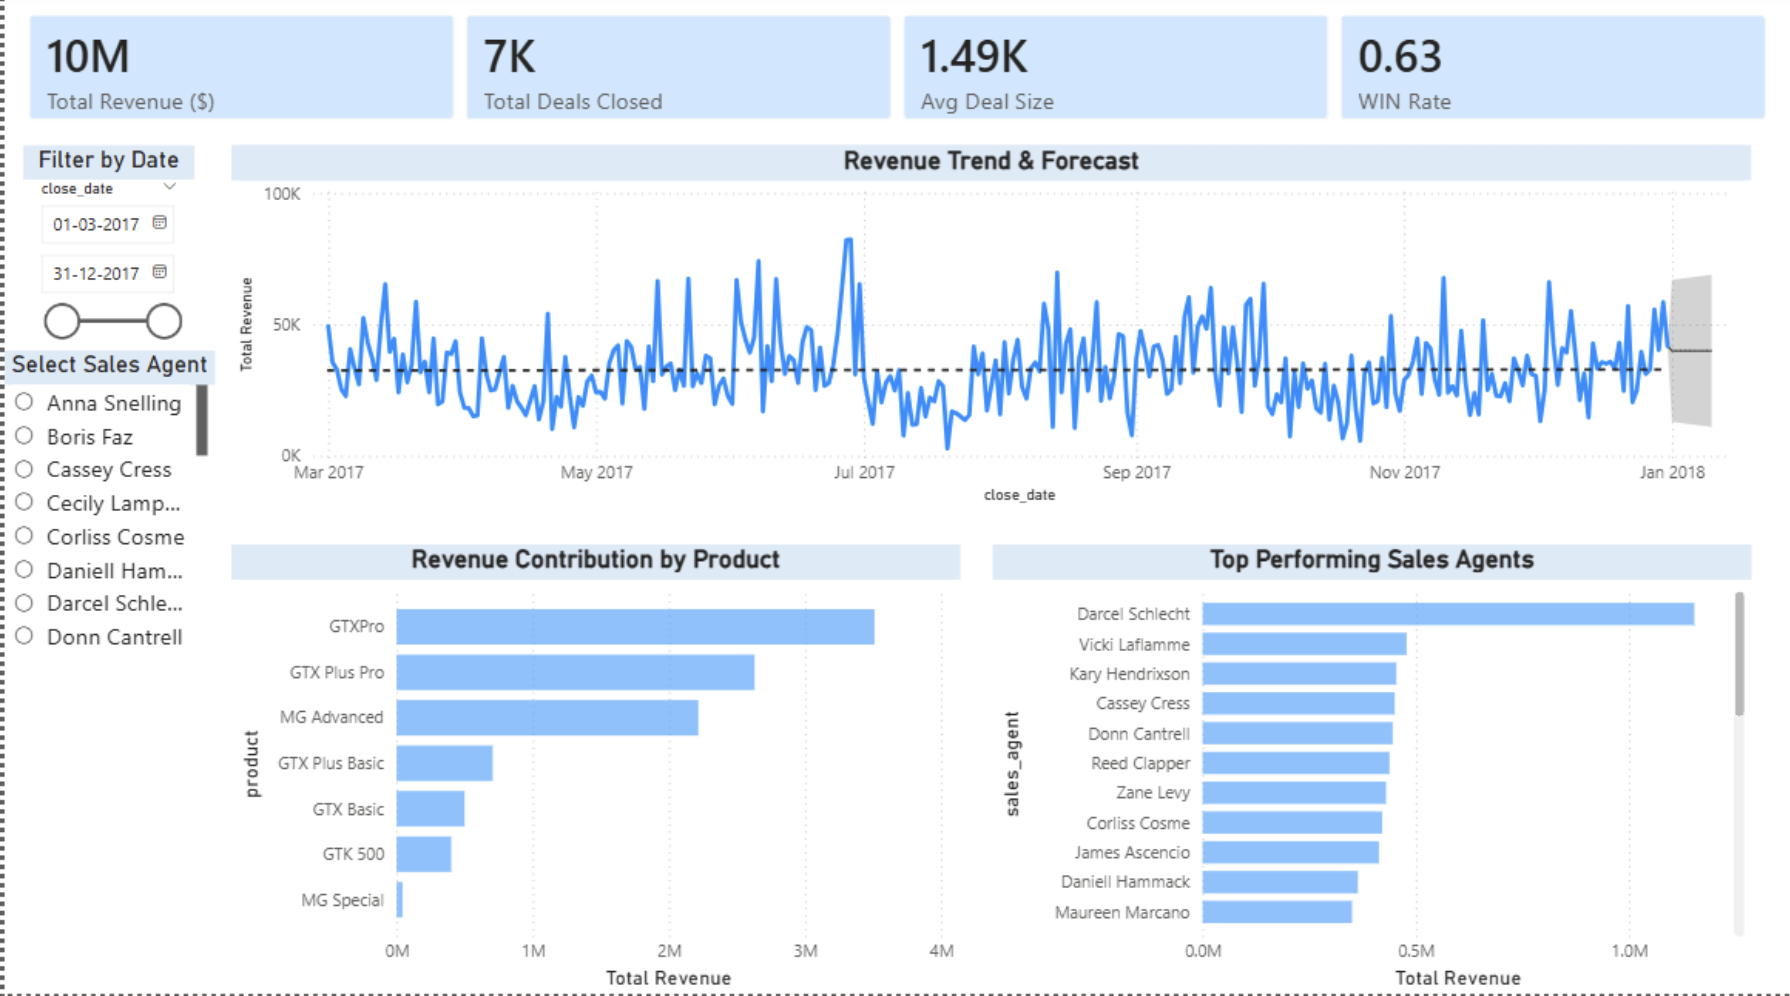

The page's visual inventory and layout, read from the dashboard file:
{"tool":"powerbi","page":{"name":"Page 1","canvas":[1280,720],"ordinal":0},"visuals":[{"type":"cardVisual","fields":{"Data":["sales pipeline cleaned.Total Revenue","sales pipeline cleaned.Total Deals","sales pipeline cleaned.Avg Deal Size","sales pipeline cleaned.WIN Rate"]},"box":[0,0,1280.5,111],"z":0},{"type":"lineChart","title":"Revenue Trend & Forecast","fields":{"Category":["sales pipeline cleaned.close_date"],"Y":["sales pipeline cleaned.Total Revenue"]},"box":[162.3,111,1088.3,261.7],"z":1000},{"type":"clusteredBarChart","title":"Top Performing Sales Agents","fields":{"Y":["sales pipeline cleaned.Total Revenue"],"Category":["sales pipeline cleaned.sales_agent"]},"box":[707.3,397.6,543.3,323],"z":2000},{"type":"clusteredBarChart","title":"Revenue Contribution by Product","fields":{"Y":["sales pipeline cleaned.Total Revenue"],"Category":["sales pipeline cleaned.product"]},"box":[162.3,397.6,521.8,323],"z":3000},{"type":"slicer","title":"Filter by Date","fields":{"Values":["sales pipeline cleaned.close_date"]},"box":[13.3,111,122.6,147.4],"z":4000},{"type":"listSlicer","title":"Select Sales Agent","fields":{"Values":["sales pipeline cleaned.sales_agent"]},"box":[0,258.4,150.7,222],"z":5000}]}

Visuals, with their boxes in screenshot pixels (x1, y1, x2, y2), scaled from the page's 1280x720 canvas onto the 1790x996 screenshot:
cardVisual - sales pipeline cleaned.Total Revenue x sales pipeline cleaned.Total Deals: 0/0/1789/154
"Revenue Trend & Forecast" lineChart: 227/154/1749/516
"Top Performing Sales Agents" clusteredBarChart: 989/550/1749/995
"Revenue Contribution by Product" clusteredBarChart: 227/550/957/995
"Filter by Date" slicer: 19/154/190/357
"Select Sales Agent" listSlicer: 0/357/211/665
